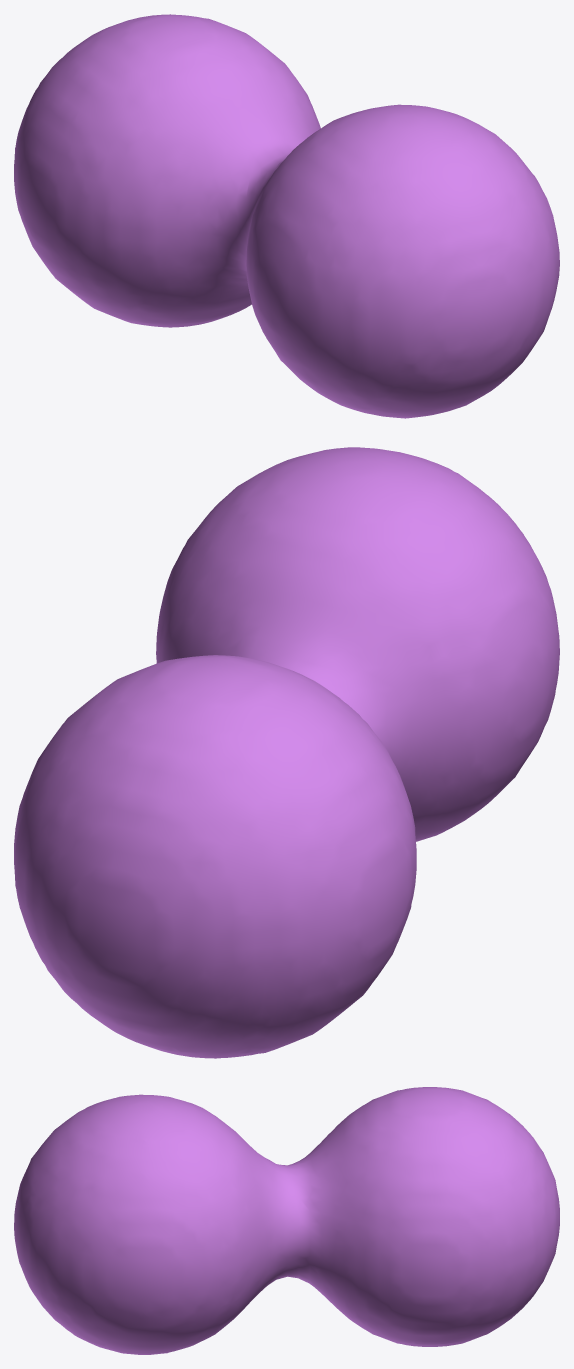
Rendered from Mball_frame_20.glb.
The picture shows the model from 3 angles, top to bottom: view 1: azimuth 30°, elevation 25°; view 2: azimuth 150°, elevation 25°; view 3: azimuth 270°, elevation 25°; orthographic projection. The views are drawn at different scales.
Visible parts, largest first — view 1: Mball_frame_20; view 2: Mball_frame_20; view 3: Mball_frame_20.
Boxes of the visible parts, <box> form: Mball_frame_20: <box>14,14,559,418</box>; Mball_frame_20: <box>14,447,559,1058</box>; Mball_frame_20: <box>14,1087,559,1354</box>.
Size of the model in its own units: 2.8 by 2.45 by 4.79.
